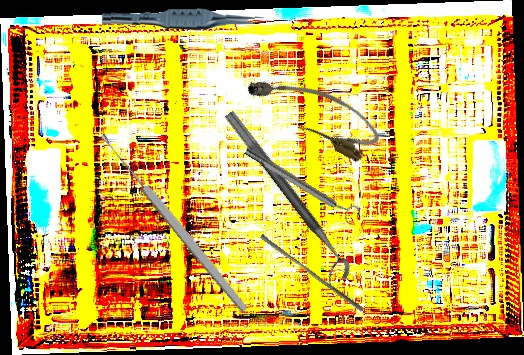Cannula: (240, 56, 387, 167)
Fixation Ring: (210, 109, 357, 290), (241, 140, 361, 227)
Pusher: (256, 233, 368, 313)
Surgical Spoon: (97, 130, 251, 315)
Tissue Forceps: (101, 6, 265, 34)
